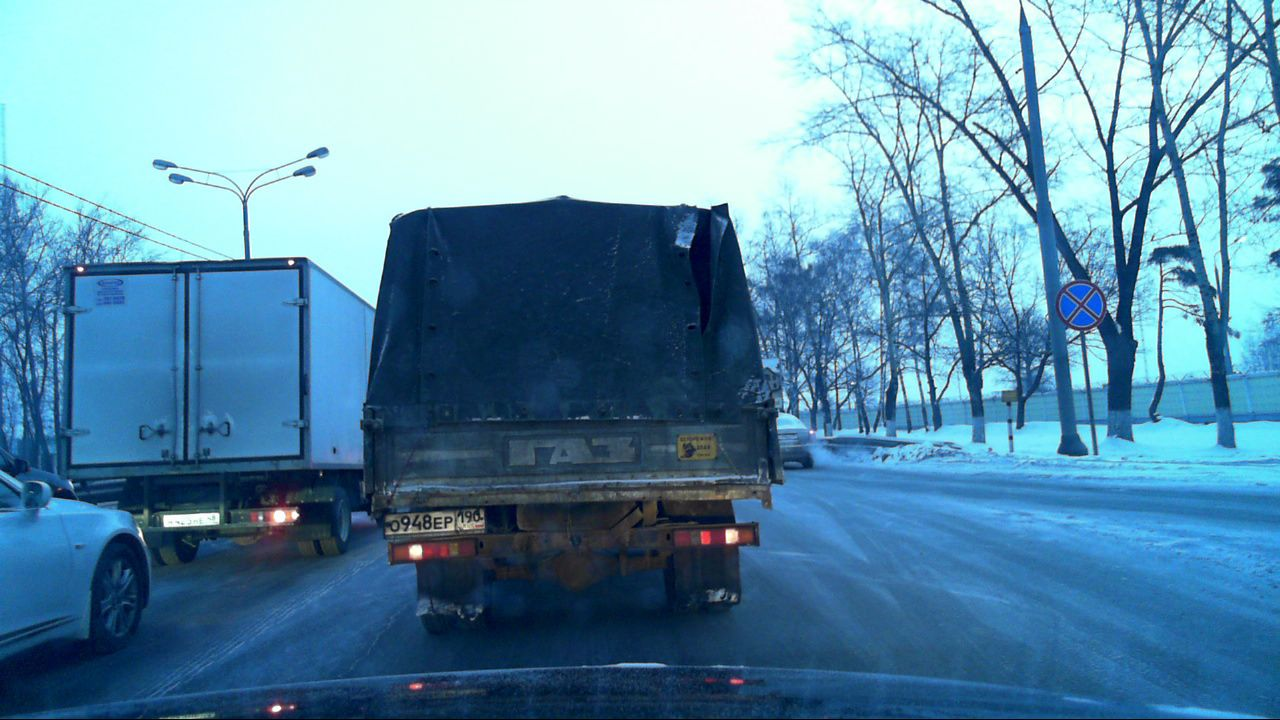No Parking: (1055, 280, 1107, 331)
